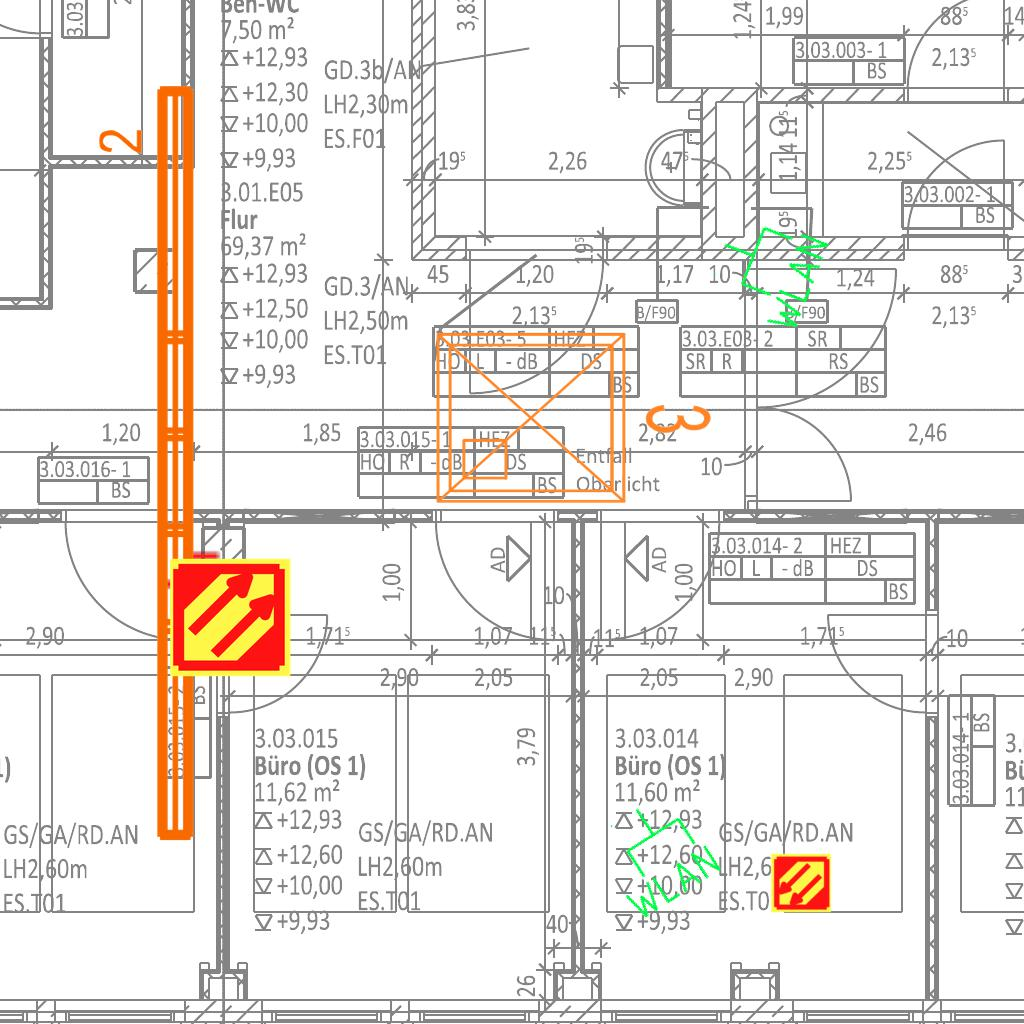ASR_Ansaugrauchmelder: (168, 555, 293, 680), (770, 852, 832, 914)
Ambulanz_Pendelleuchte_LED: (94, 77, 206, 851)
Datenanschluss_zweifach: (156, 548, 259, 617)
Einbaudownlights_LED_Konferenzraeume: (422, 310, 722, 518)
WLAN: (582, 783, 728, 928), (699, 203, 835, 340)
